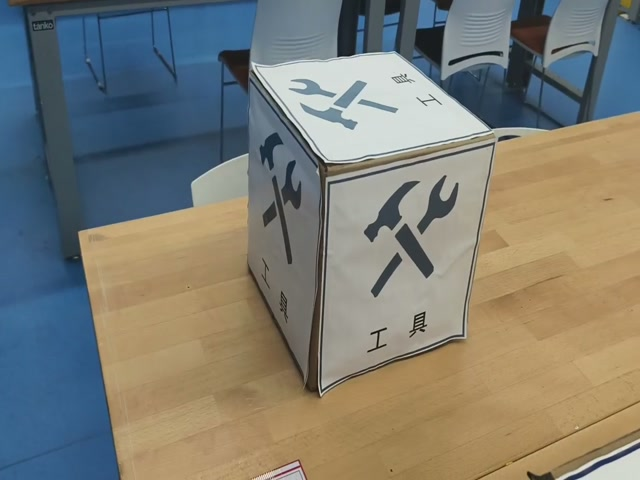Cube_tool: (251, 53, 495, 171)
